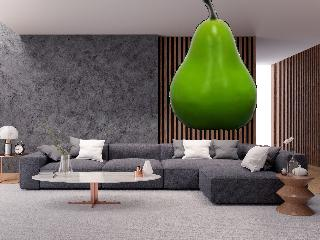pear: (163, 0, 262, 131)
